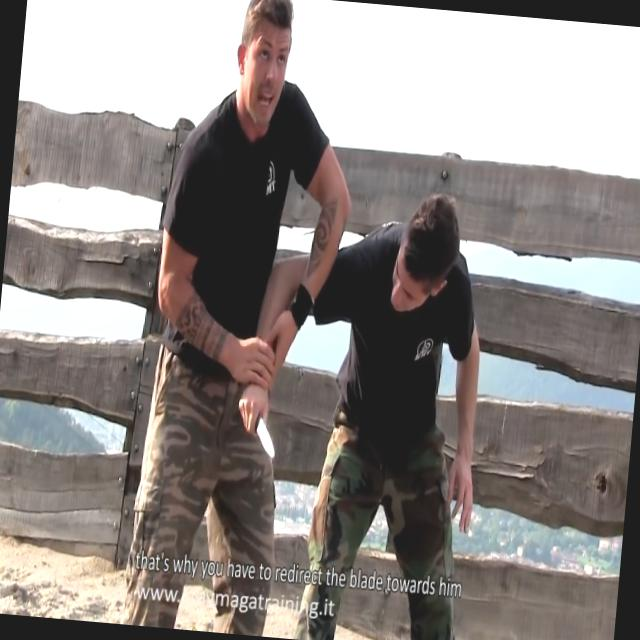knife: (233, 385, 288, 468)
